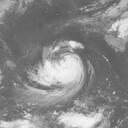cyclone: (23, 39, 89, 103)
